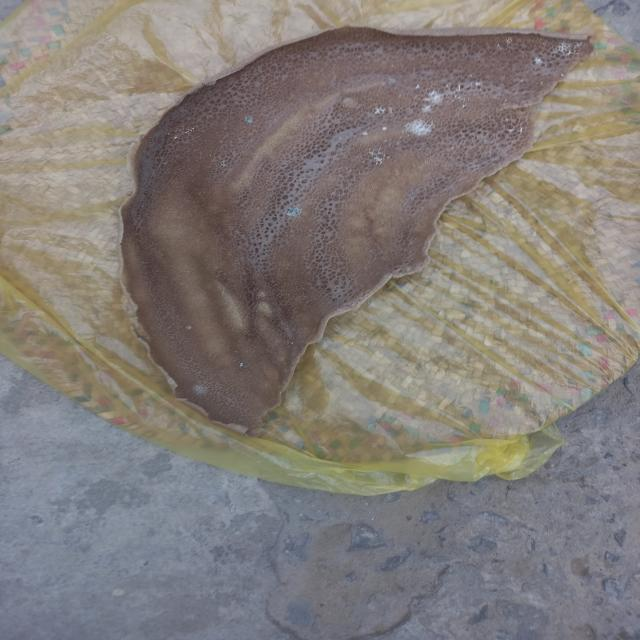injera_mold: (451, 73, 484, 96), (418, 88, 450, 107), (404, 118, 436, 137), (549, 40, 576, 58), (367, 150, 389, 166), (190, 382, 211, 396), (504, 125, 528, 136), (285, 204, 303, 218), (240, 112, 256, 125), (372, 104, 388, 116), (530, 54, 546, 64), (386, 75, 400, 86), (218, 159, 230, 169), (422, 105, 432, 115), (361, 130, 372, 136), (380, 126, 390, 131)
